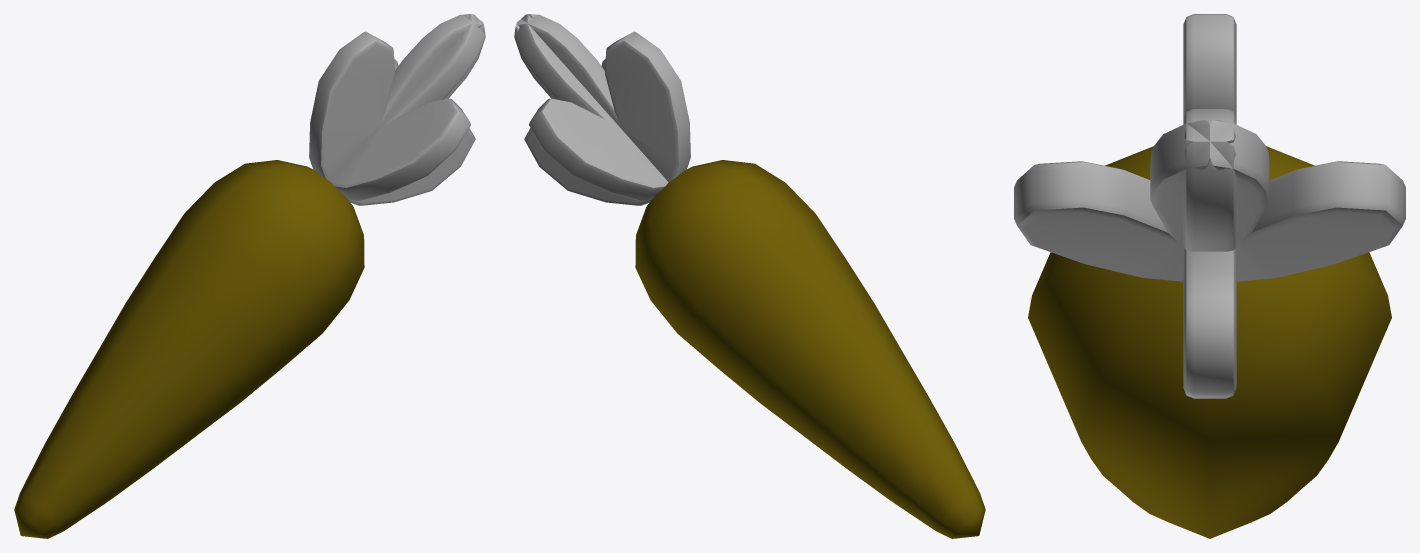
File: Carrot.fbx
3 views of the same model, side by side, from view 1: azimuth 30°, elevation 25°; view 2: azimuth 150°, elevation 25°; view 3: azimuth 270°, elevation 25° (orthographic). The views are drawn at different scales.
Visible parts, largest first — view 1: pSphere2; view 2: pSphere2; view 3: pSphere2.
Boxes of the visible parts, bbox=[...] form: pSphere2: bbox=[14, 14, 485, 538]; pSphere2: bbox=[514, 14, 985, 538]; pSphere2: bbox=[1014, 14, 1405, 538].
Bounding box in the file's own units: 3.31 × 2.87 × 1.22.
